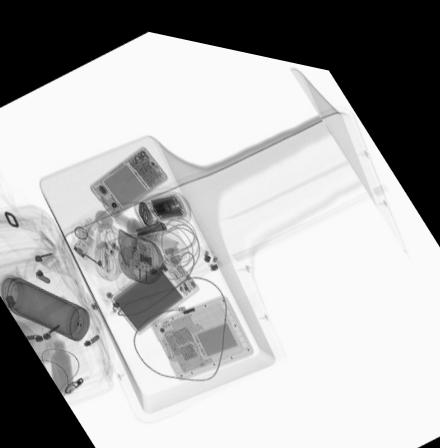Powerbank: (109, 244, 200, 329)
